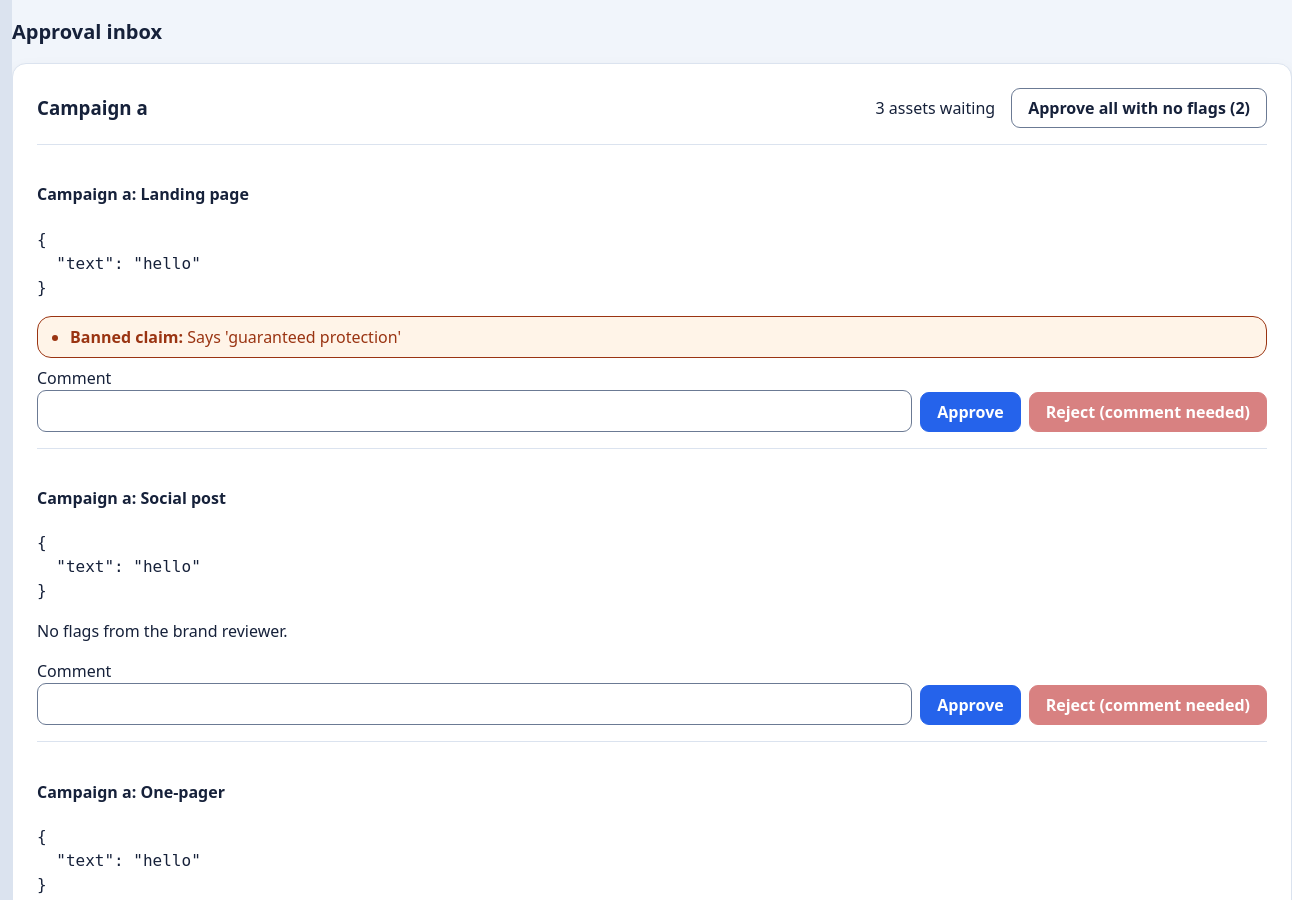
Test: Approve all with no flags approves only that campaign's clean assets
Click the button "Approve all with no flags (2)" at [1139, 108], box top-left (1011, 88), bottom-right (1267, 128)
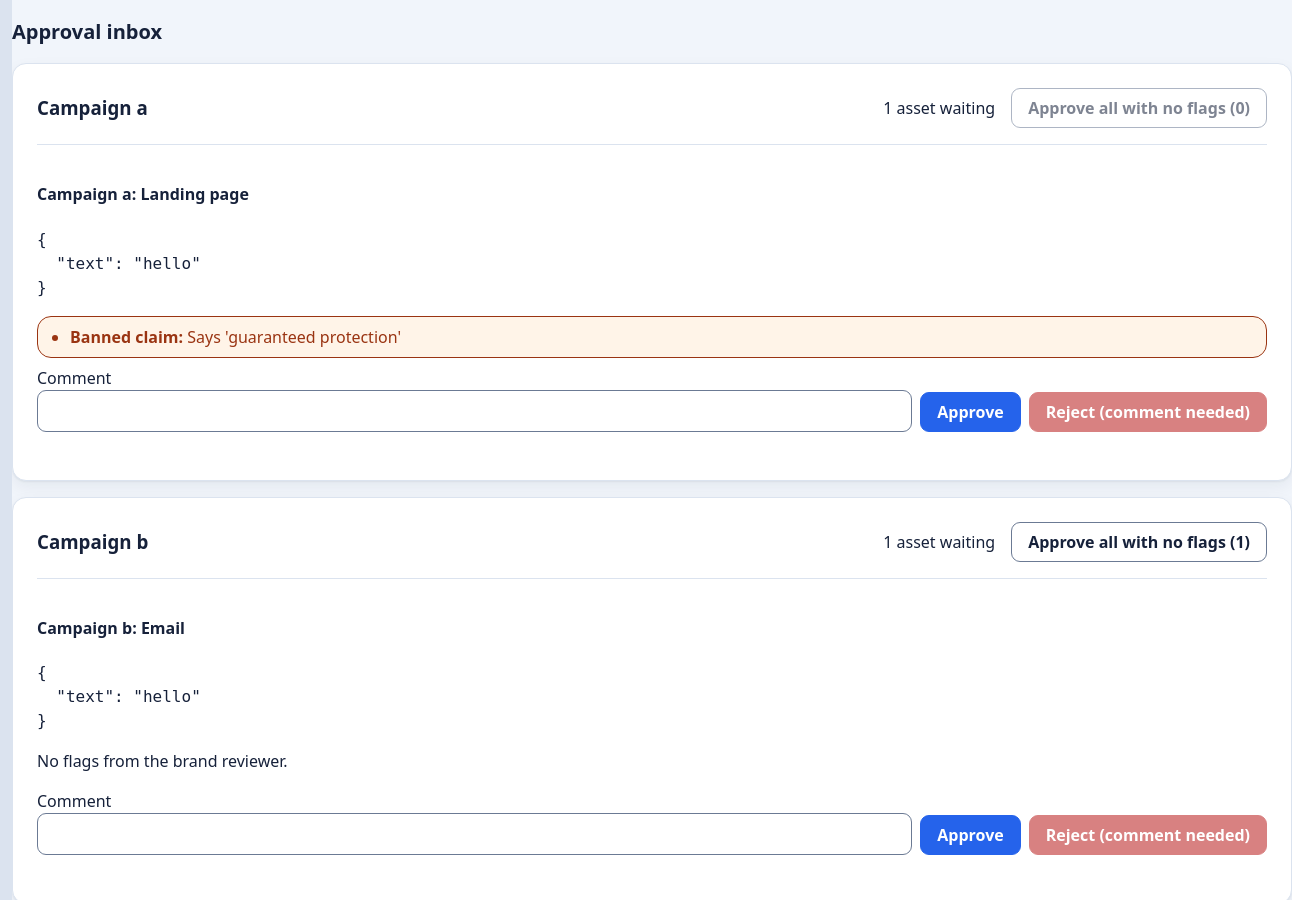
Expected: the element "Campaign a: Landing page" is shown, top-left (37, 144), bottom-right (1267, 432)
Now the 1st text with test id "campaign-waiting" reads "1 asset waiting", box top-left (883, 97), bottom-right (995, 119)
